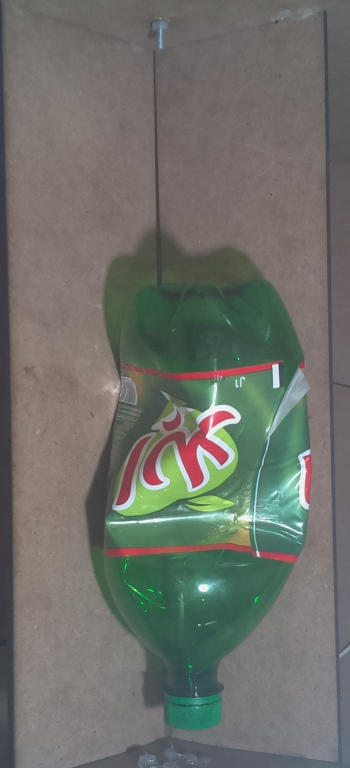Bouteille_1L: (96, 276, 319, 742)
